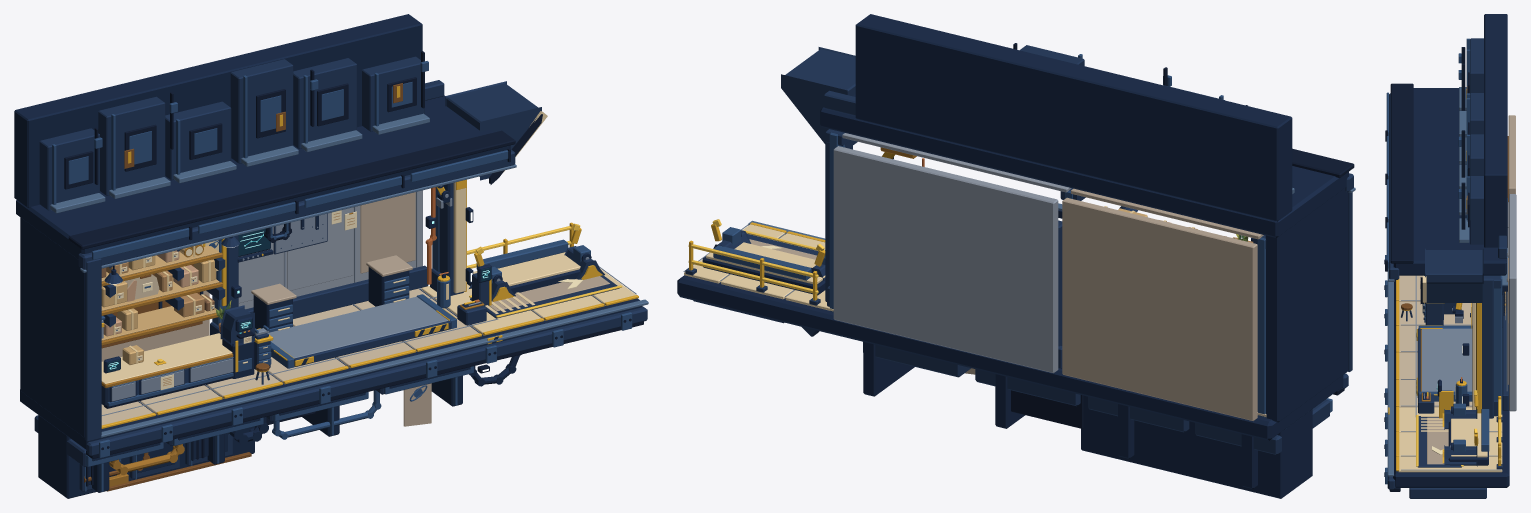
Rendered from shop_cutaway_untextured.glb.
The picture shows the model from 3 angles, left to right: view 1: azimuth 30°, elevation 25°; view 2: azimuth 150°, elevation 25°; view 3: azimuth 270°, elevation 25°; orthographic projection. The views are drawn at different scales.
Visible parts, largest first — view 1: V4_Shop_DeepNavy, V4_Shop_FrameNavy, V4_Shop_Cobalt, V4_Shop_Ink, V4_Shop_Steel, V4_Shop_EdgeBlue, V4_Shop_Cream, V4_Shop_WarmWall, V4_Shop_WallBlue, V4_Shop_Plaster, V4_Shop_Gold, V4_Shop_ParcelLight (+7 smaller); view 2: V4_Shop_DeepNavy, V4_Shop_WallBlue, V4_Shop_WarmWall, V4_Shop_FrameNavy, V4_Shop_Cobalt, V4_Shop_Cream, V4_Shop_Ink, V4_Shop_SunGold, V4_Shop_Gold; view 3: V4_Shop_DeepNavy, V4_Shop_FrameNavy, V4_Shop_Ink, V4_Shop_Cobalt, V4_Shop_Steel, V4_Shop_Cream, V4_Shop_Plaster, V4_Shop_EdgeBlue, V4_Shop_Gold, V4_Shop_WallBlue, V4_Shop_WarmWall, V4_Shop_SunGold (+2 smaller).
Boxes of the visible parts, x1,y1,x2,y2 form: V4_Shop_DeepNavy: (14,14,642,498); V4_Shop_FrameNavy: (34,56,647,491); V4_Shop_Cobalt: (52,61,632,491); V4_Shop_Ink: (64,51,643,486); V4_Shop_Steel: (101,185,636,415); V4_Shop_EdgeBlue: (50,113,648,437); V4_Shop_Cream: (101,111,635,383); V4_Shop_WarmWall: (101,192,609,426); V4_Shop_WallBlue: (238,190,422,309); V4_Shop_Plaster: (101,274,478,425); V4_Shop_Gold: (101,86,638,428); V4_Shop_ParcelLight: (101,245,219,364); V4_Shop_DeepNavy: (677,14,1348,498); V4_Shop_WallBlue: (833,133,1071,373); V4_Shop_WarmWall: (749,188,1263,420); V4_Shop_FrameNavy: (685,45,1353,454); V4_Shop_Cobalt: (713,54,1332,417); V4_Shop_Cream: (684,224,833,311); V4_Shop_Ink: (1011,43,1354,428); V4_Shop_SunGold: (688,219,824,294); V4_Shop_Gold: (689,152,894,300); V4_Shop_DeepNavy: (1388,14,1509,487); V4_Shop_FrameNavy: (1387,38,1508,498); V4_Shop_Ink: (1384,47,1469,491); V4_Shop_Cobalt: (1385,38,1502,484); V4_Shop_Steel: (1401,252,1507,470); V4_Shop_Cream: (1398,276,1502,472); V4_Shop_Plaster: (1399,275,1472,407); V4_Shop_EdgeBlue: (1387,87,1507,476); V4_Shop_Gold: (1388,89,1501,471); V4_Shop_WallBlue: (1507,194,1516,411); V4_Shop_WarmWall: (1427,115,1515,464); V4_Shop_SunGold: (1416,390,1501,466).
Bounding box in the file's own units: 27.15 × 16.72 × 6.59.
